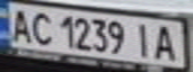1: (54, 11, 75, 48)
2: (72, 14, 93, 52)
3: (90, 16, 109, 54)
9: (106, 17, 130, 56)
A: (151, 21, 181, 62), (6, 6, 36, 43)
C: (27, 9, 57, 46)
I: (130, 20, 157, 58)
